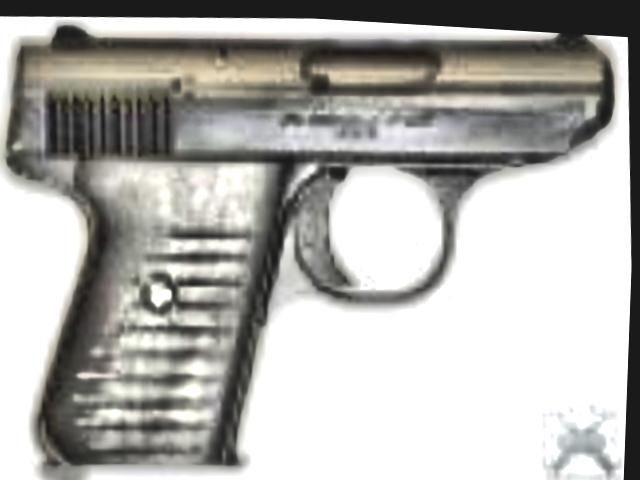pistol: (0, 1, 635, 480)
